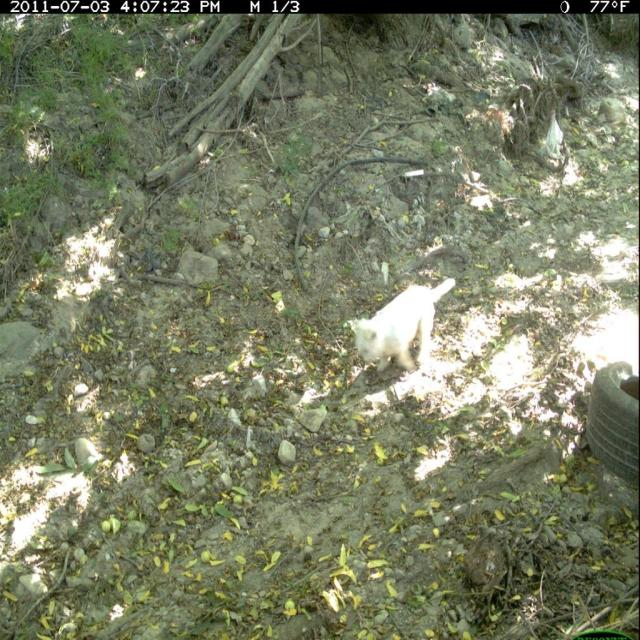dog: (349, 270, 460, 387)
